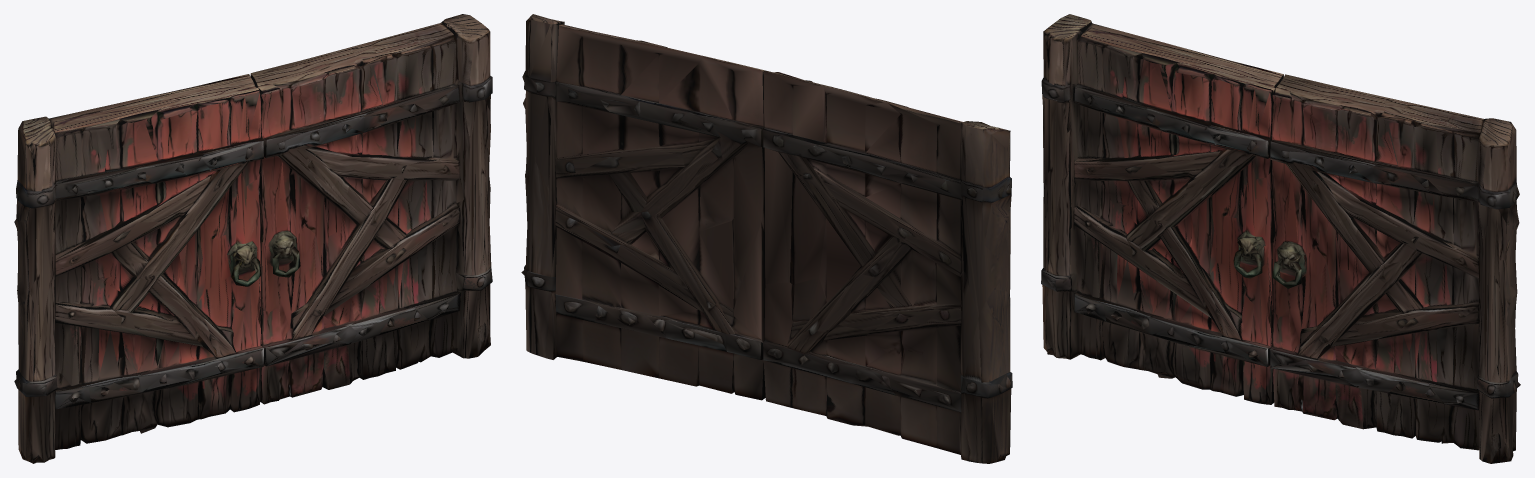
The model's file is gate.glb.
The picture shows the model from 3 angles, left to right: view 1: azimuth 30°, elevation 25°; view 2: azimuth 150°, elevation 25°; view 3: azimuth 330°, elevation 25°; orthographic projection. The views are drawn at different scales.
Parts seen in each view (by area): view 1: gate; view 2: gate; view 3: gate.
Part boxes in pixels (x1,y1,x2,y2): gate: (14,14,492,463); gate: (521,14,1012,463); gate: (1041,14,1520,463).
Size of the model in its own units: 6 by 4 by 0.6.
1 material, 1 textured.
